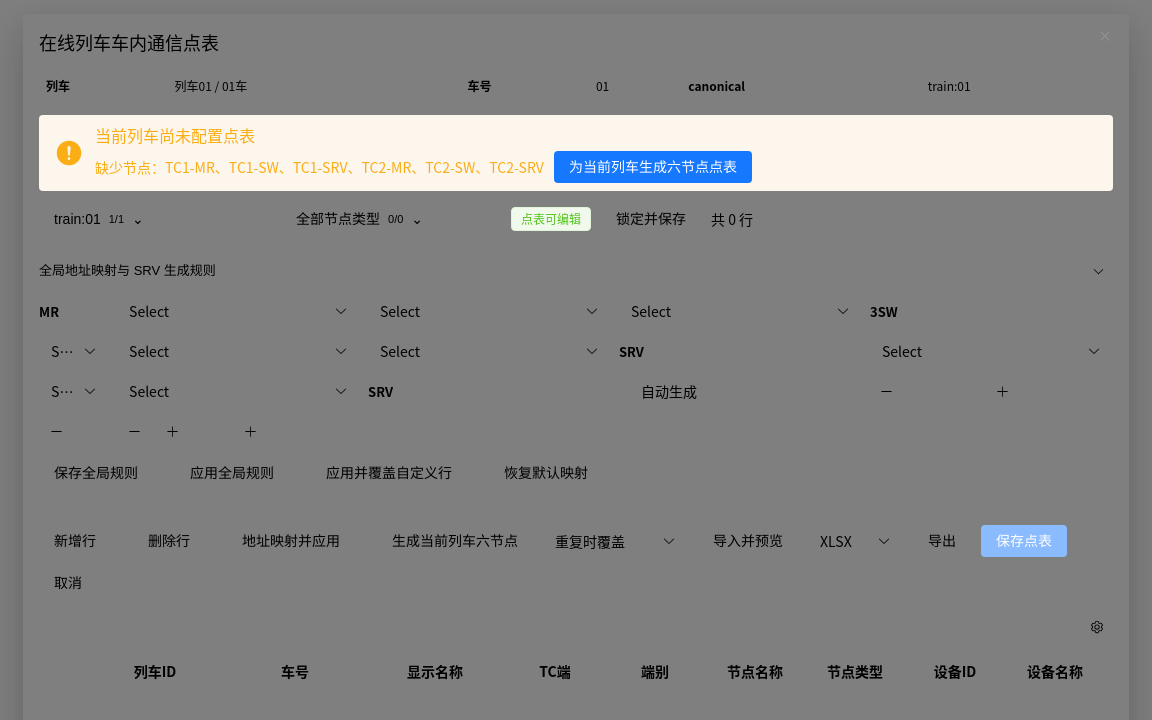
Test case: 在线列车车内通信点表 Dialog › 任务完成但未返回预览时保留编辑区并显示明确错误
This screenshot has width=1152, height=720.
Click the button "为当前列车生成六节点点表" at point(653, 167), box [554,151,752,183]
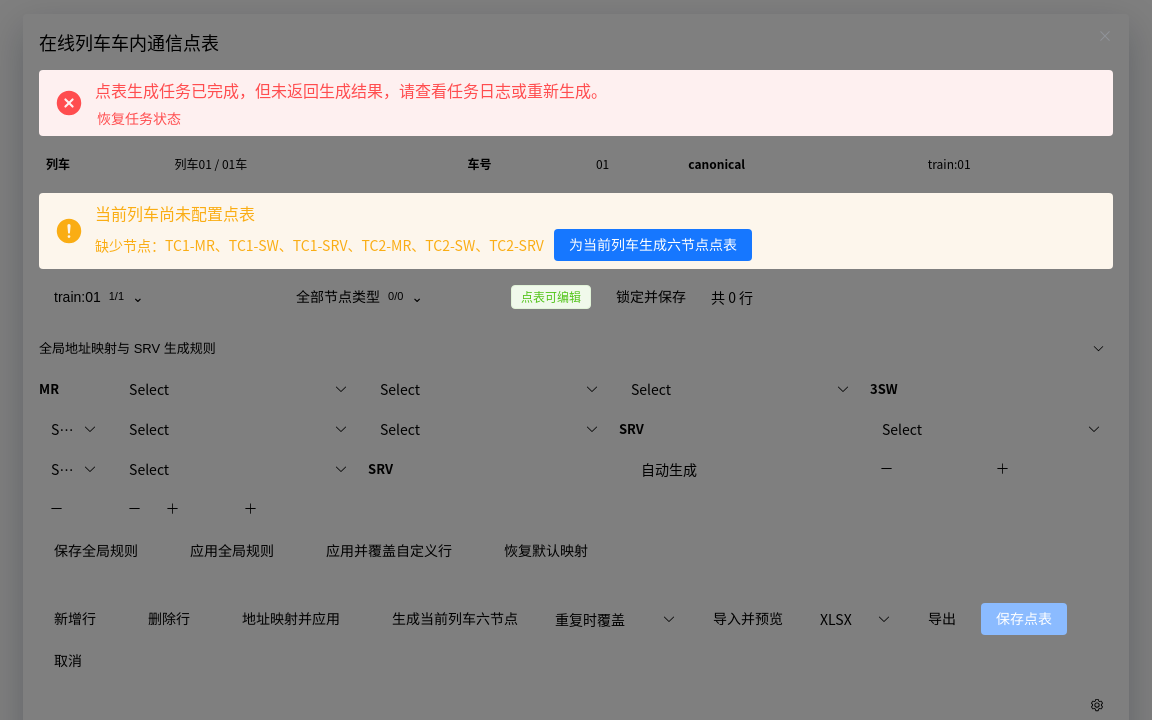
Check: the text "点表生成任务已完成，但未返回生成结果" is shown, box [95,78,607,102]
